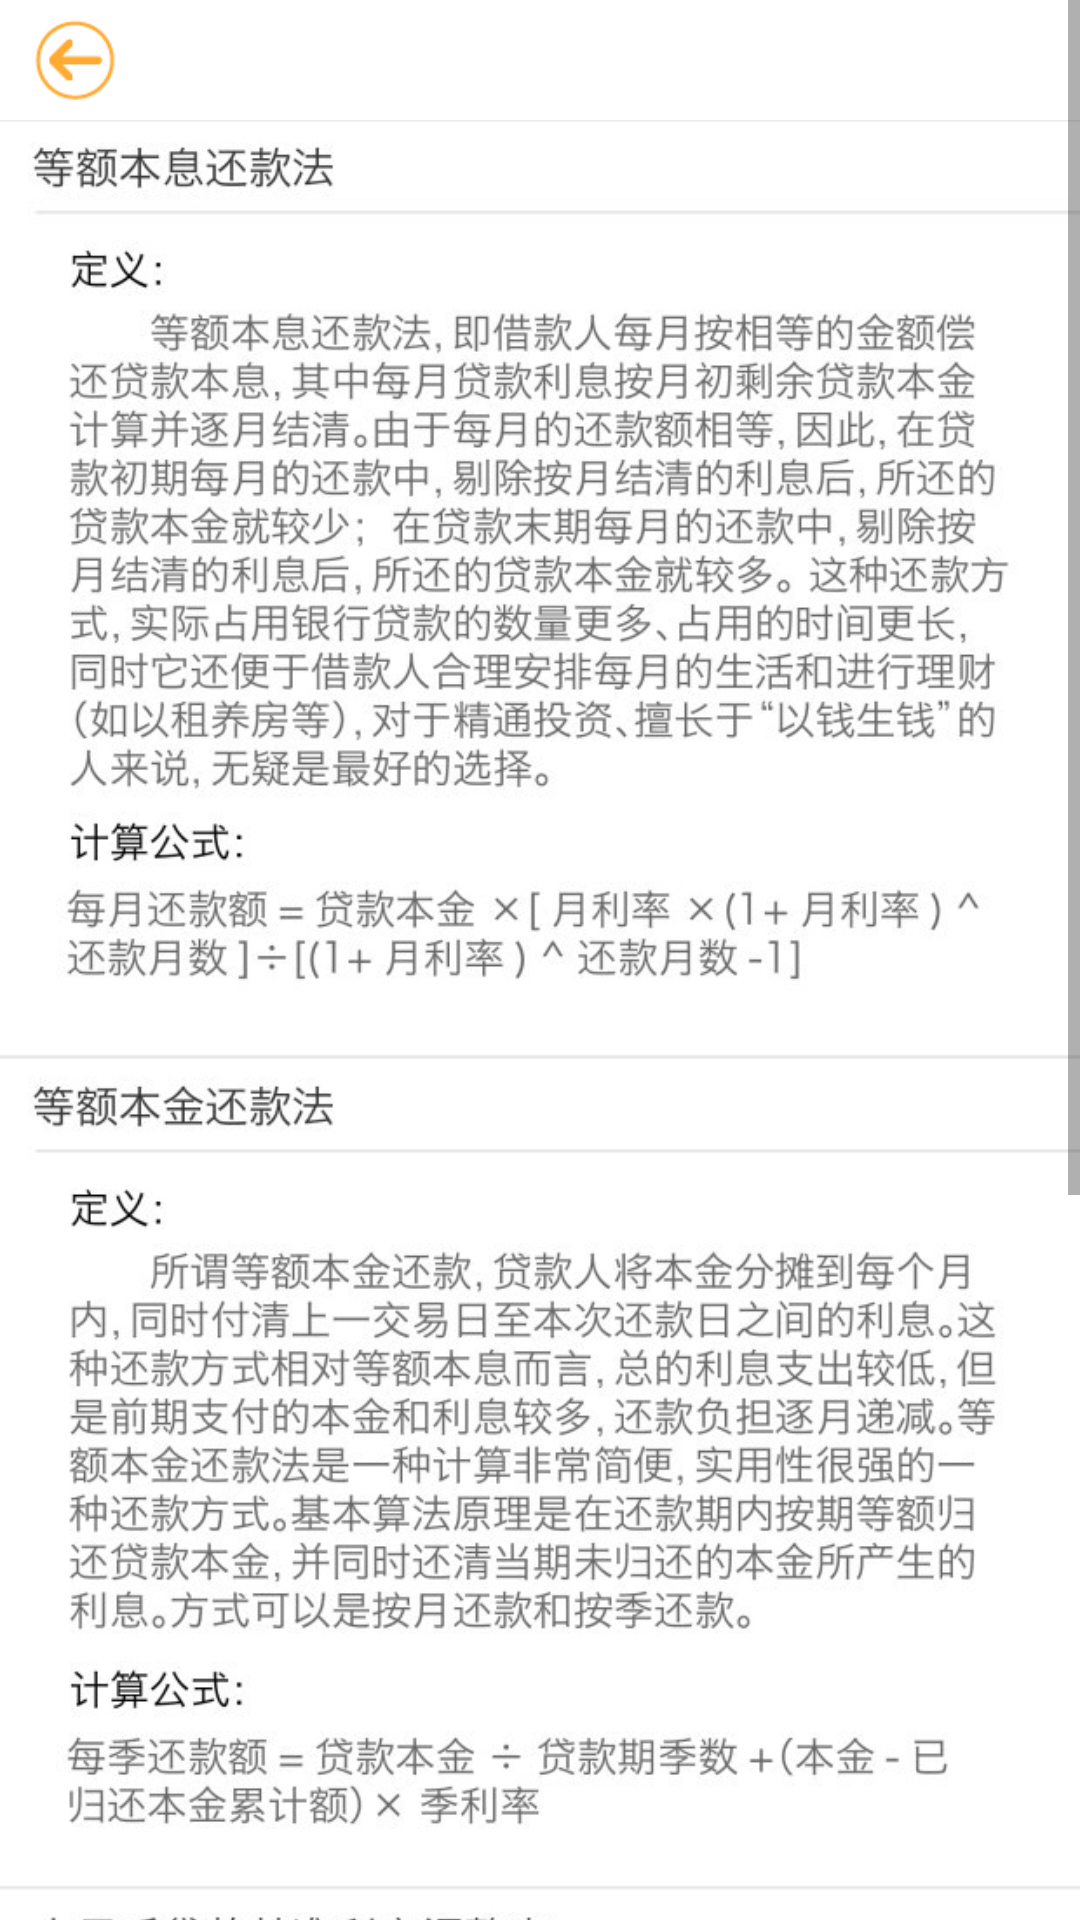

Point at icon controls on the screen. Image size 1080 x 1920, points as (x,y).
back: (75,60)
